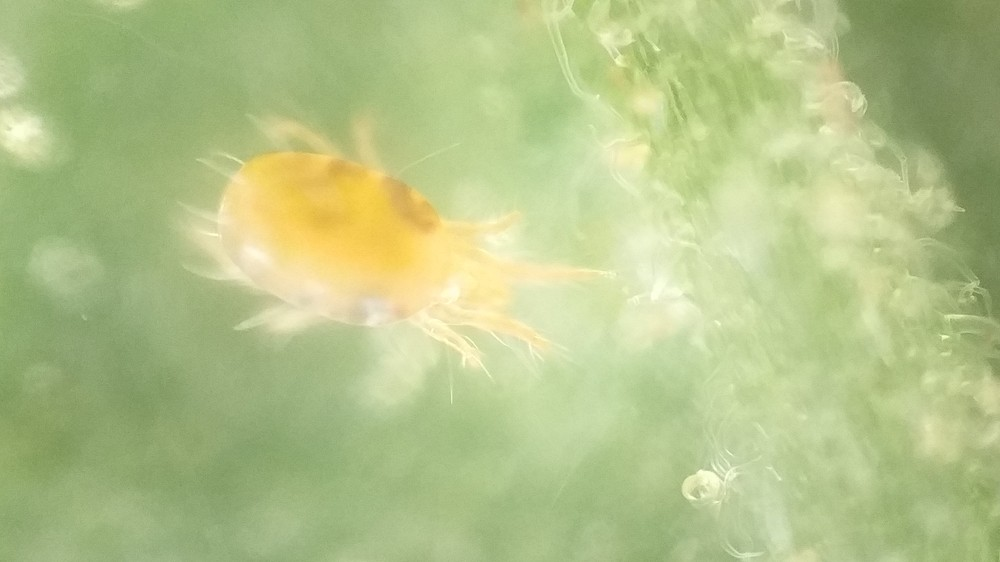Aracnido Rojo: (173, 103, 632, 421)
